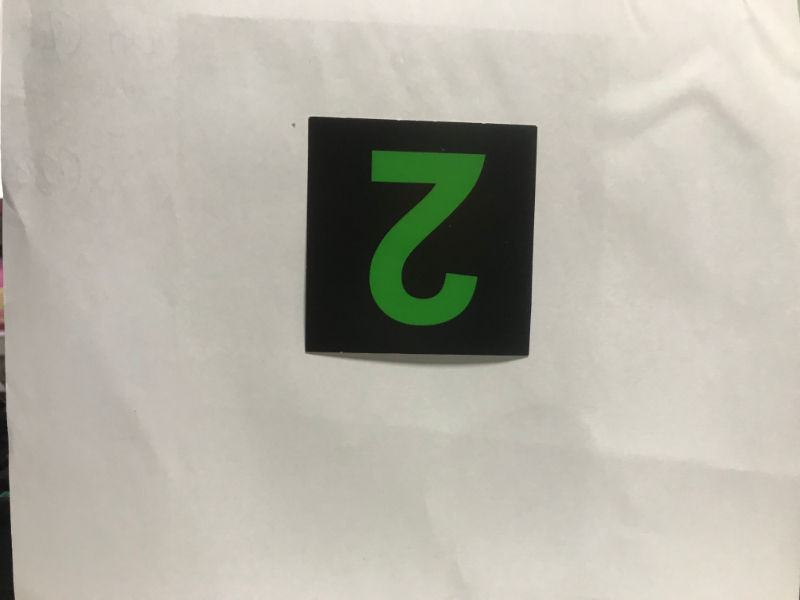Two-7: (310, 126, 527, 351)
